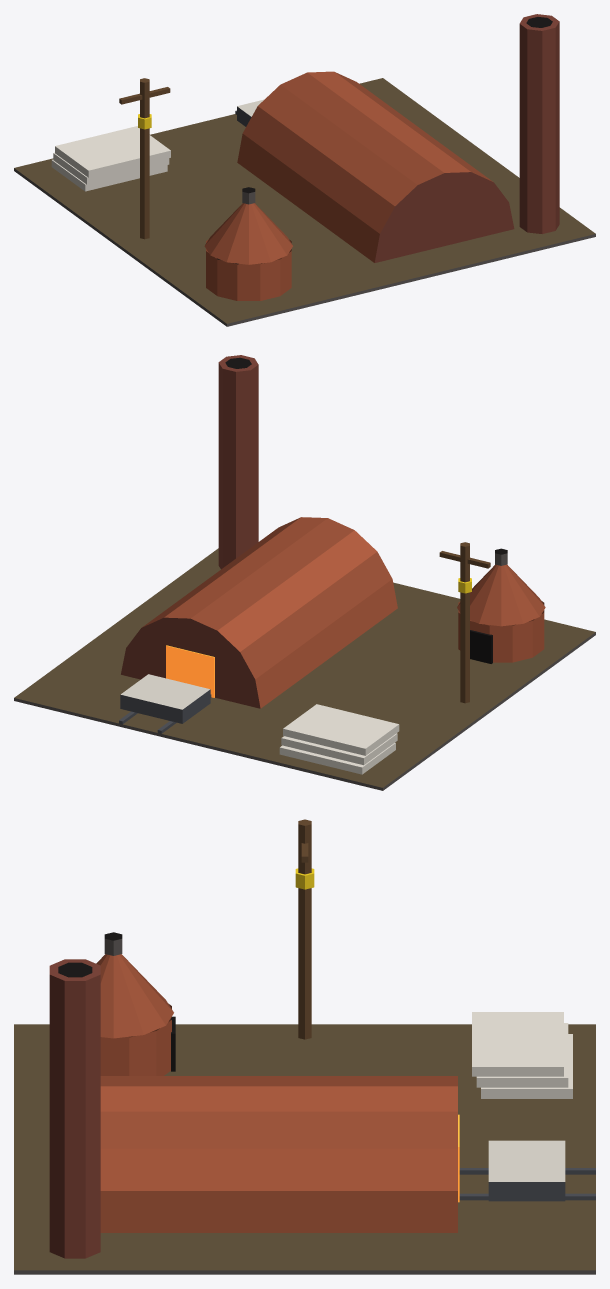
File: kiln_3.glb
3 views of the same model, one above another, from view 1: azimuth 30°, elevation 25°; view 2: azimuth 150°, elevation 25°; view 3: azimuth 270°, elevation 25° (orthographic). The views are drawn at different scales.
Visible parts, largest first — view 1: kiln_3; view 2: kiln_3; view 3: kiln_3.
Boxes of the visible parts, x1,y1,x2,y2 form: kiln_3: (14, 14, 595, 326); kiln_3: (14, 355, 595, 790); kiln_3: (14, 819, 595, 1274).
Size of the model in its own units: 3.8 by 2.03 by 3.8.
